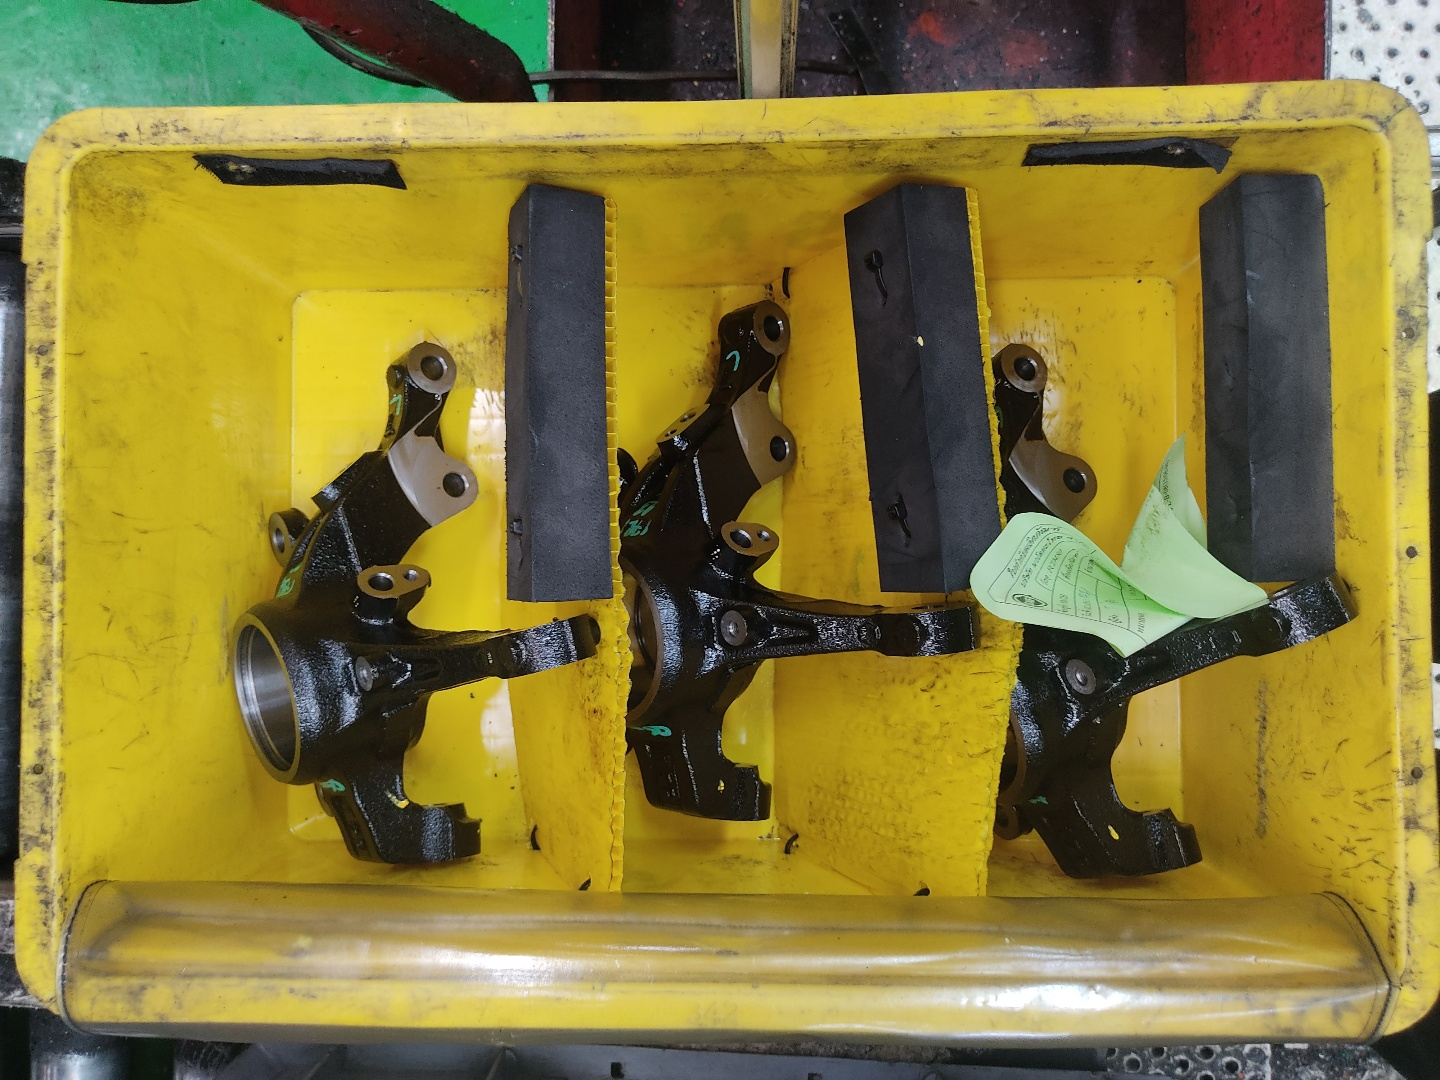abs-lh: (989, 328, 1364, 888), (219, 335, 605, 874), (604, 295, 990, 832)
